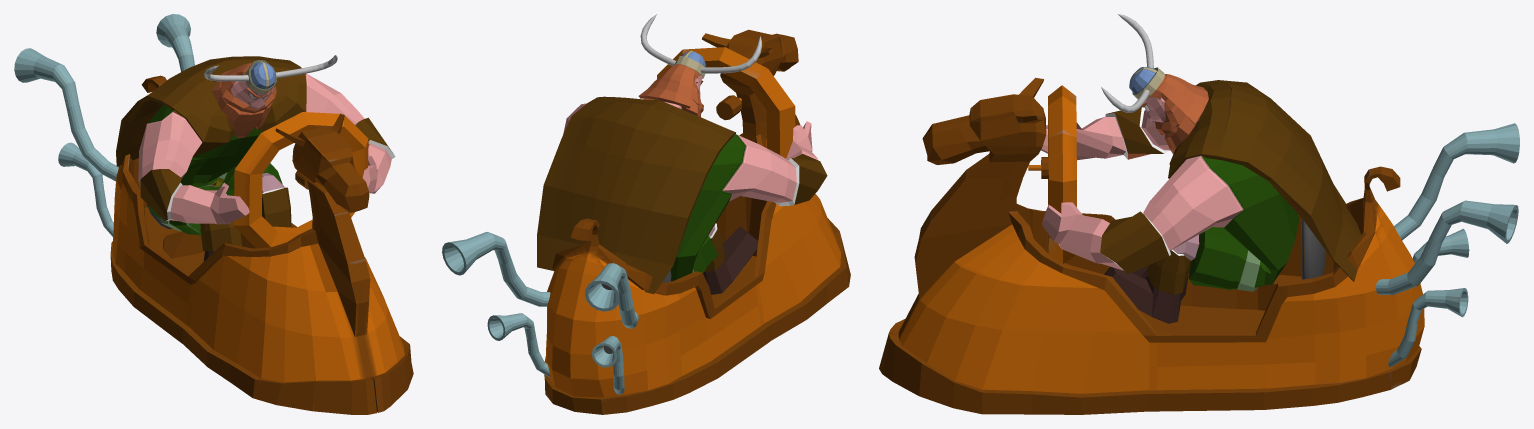
Rendered from vikingoConIzq.obj.
The picture shows the model from 3 angles, left to right: view 1: azimuth 30°, elevation 25°; view 2: azimuth 150°, elevation 25°; view 3: azimuth 270°, elevation 25°; orthographic projection. The views are drawn at different scales.
Visible parts, largest first — view 1: kart_viking_Cylinder.044_Cylinder.000_kart_viking_Cylinder..000, Sphere_Sphere.000; view 2: kart_viking_Cylinder.044_Cylinder.000_kart_viking_Cylinder..000, Sphere_Sphere.000; view 3: kart_viking_Cylinder.044_Cylinder.000_kart_viking_Cylinder..000, Sphere_Sphere.000.
Boxes of the visible parts, x1,y1,x2,y2 form: kart_viking_Cylinder.044_Cylinder.000_kart_viking_Cylinder..000: [14, 14, 413, 414]; Sphere_Sphere.000: [116, 55, 395, 261]; kart_viking_Cylinder.044_Cylinder.000_kart_viking_Cylinder..000: [442, 29, 850, 414]; Sphere_Sphere.000: [537, 14, 827, 294]; kart_viking_Cylinder.044_Cylinder.000_kart_viking_Cylinder..000: [879, 77, 1519, 414]; Sphere_Sphere.000: [1041, 14, 1361, 323].
Size of the model in its own units: 4.93 by 5.8 by 10.31.
Materials: 2 (2 with a texture image).
